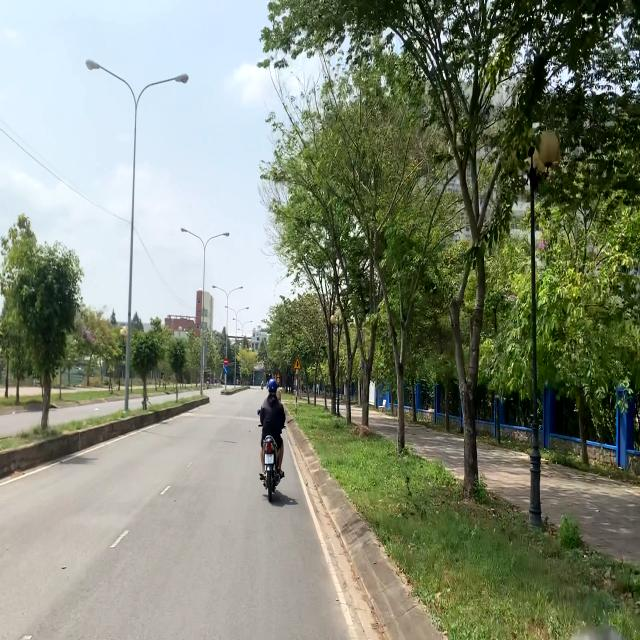P.102: (223, 357, 229, 365)
R.302a: (223, 366, 229, 375)
W.207b: (293, 356, 301, 372)
